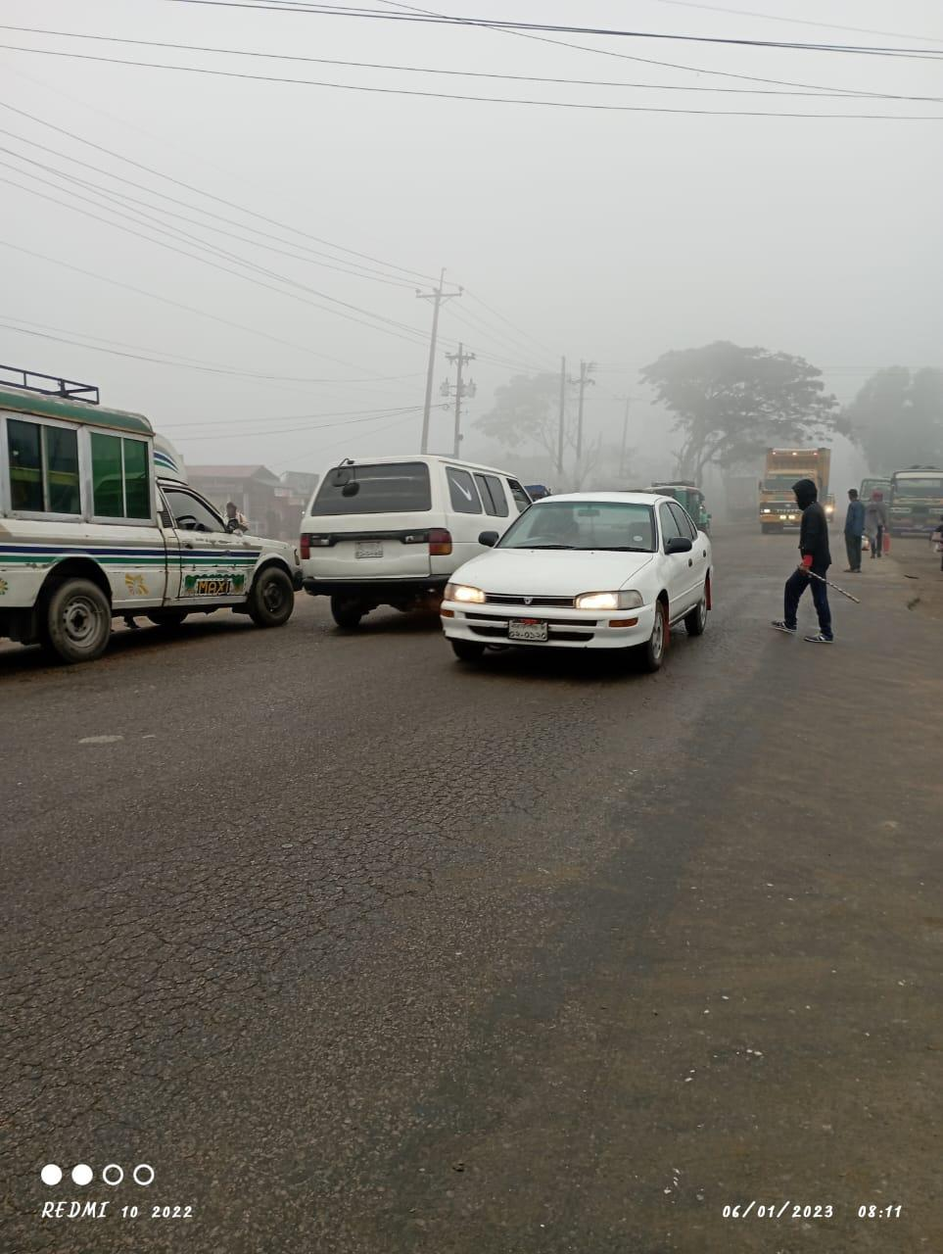Bus: (880, 462, 943, 548)
Car: (1, 357, 300, 644), (437, 489, 723, 670), (295, 442, 526, 580)
Truck: (746, 440, 842, 545)
